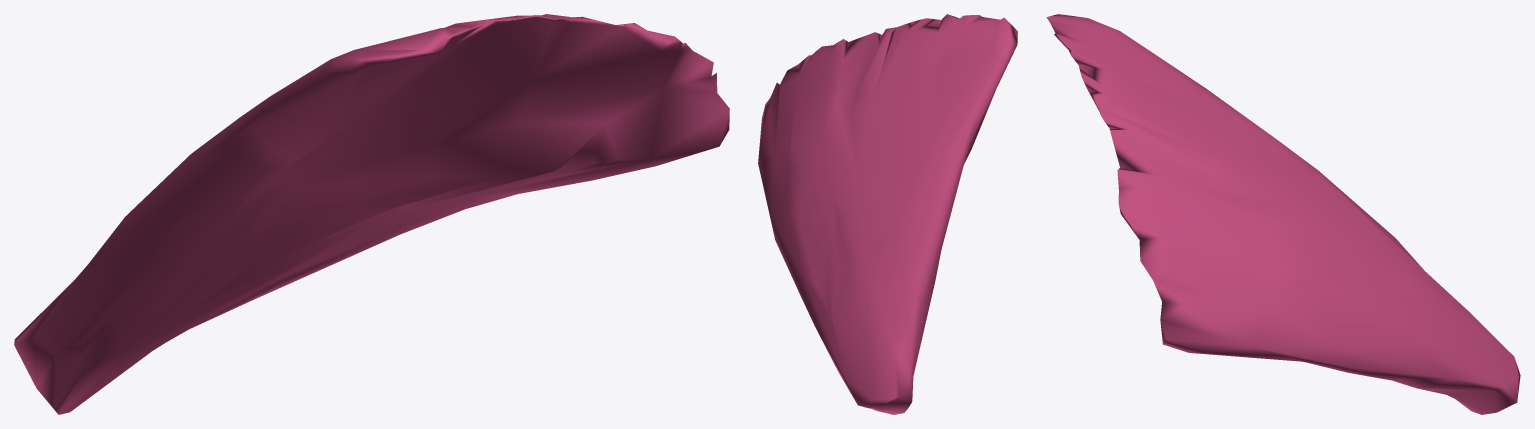
The picture shows the model from 3 angles, left to right: view 1: azimuth 30°, elevation 25°; view 2: azimuth 150°, elevation 25°; view 3: azimuth 270°, elevation 25°; orthographic projection. The views are drawn at different scales.
Visible parts, largest first — view 1: 左侧头后小直肌; view 2: 左侧头后小直肌; view 3: 左侧头后小直肌.
Part boxes in pixels (left/top/right/bottom): 左侧头后小直肌: left=14, top=14, right=729, bottom=414; 左侧头后小直肌: left=758, top=14, right=1017, bottom=414; 左侧头后小直肌: left=1046, top=14, right=1520, bottom=414.
Bounding box in the file's own units: 0.0348 × 0.0373 × 0.0383.
